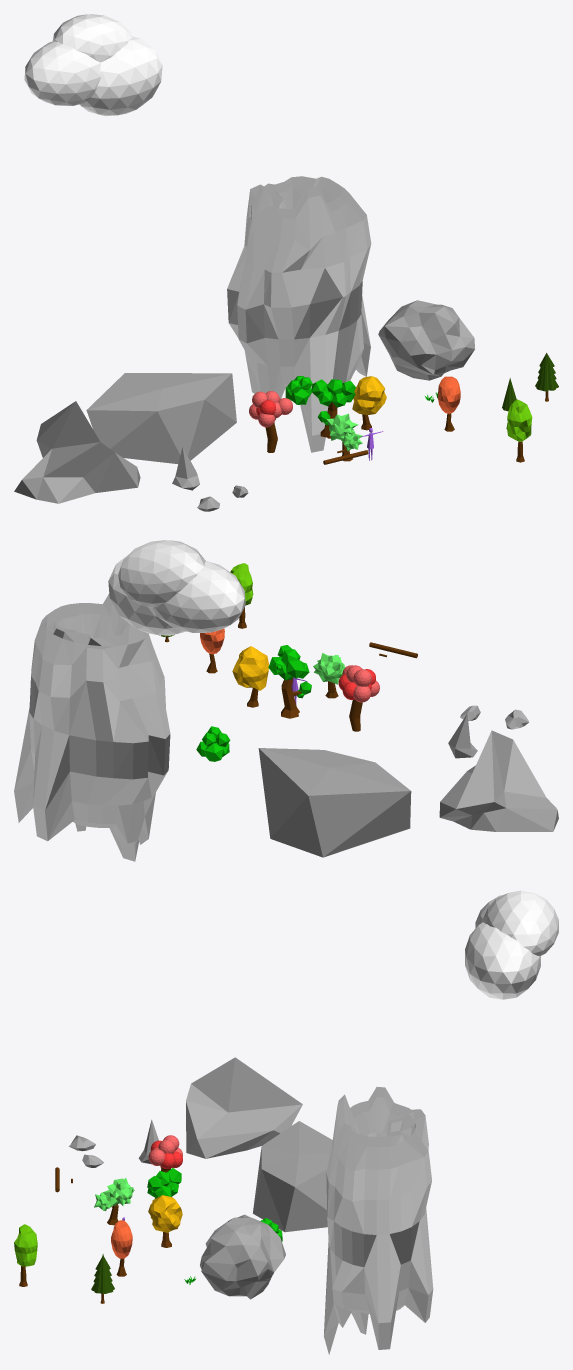
The model's file is Low poly pack_.dae.
3 views of the same model, one above another, from view 1: azimuth 30°, elevation 25°; view 2: azimuth 150°, elevation 25°; view 3: azimuth 270°, elevation 25° (orthographic). The views are drawn at different scales.
Parts seen in each view (by area): view 1: Component_30_1, Component_28_1, Component_24_1, Component_5_1, Component_31_1, Component_31_2, Component_31_3, Component_3_1, Component_25_1, Component_23_1, Component_27_1; view 2: Component_30_1, Component_28_1, Component_24_1, Component_31_2, Component_31_3, Component_31_1, Component_3_1, Component_27_1, Component_34_2, Component_1_1, Component_25_1, Component_23_1; view 3: Component_30_1, Component_24_1, Component_28_1, Component_5_1, Component_31_1, Component_31_3, Component_3_1, Component_25_1, Component_23_1, Component_34_2.
Part boxes in pixels (x1,y1,x2,y2): Component_30_1: [227, 176, 371, 452]; Component_28_1: [86, 373, 236, 463]; Component_24_1: [14, 401, 140, 503]; Component_5_1: [378, 300, 474, 380]; Component_31_1: [79, 36, 162, 116]; Component_31_2: [24, 41, 100, 105]; Component_31_3: [52, 14, 131, 62]; Component_3_1: [352, 376, 386, 414]; Component_25_1: [506, 399, 532, 441]; Component_23_1: [437, 376, 460, 413]; Component_27_1: [172, 447, 199, 490]; Component_30_1: [14, 593, 170, 861]; Component_28_1: [258, 748, 411, 857]; Component_24_1: [439, 730, 558, 831]; Component_31_2: [153, 561, 245, 632]; Component_31_3: [118, 540, 205, 607]; Component_31_1: [108, 554, 186, 635]; Component_3_1: [232, 646, 268, 690]; Component_27_1: [448, 713, 477, 758]; Component_34_2: [313, 653, 343, 684]; Component_1_1: [281, 677, 301, 718]; Component_25_1: [230, 563, 253, 605]; Component_23_1: [200, 628, 224, 654]; Component_30_1: [324, 1087, 433, 1354]; Component_24_1: [186, 1057, 302, 1158]; Component_28_1: [253, 1121, 332, 1232]; Component_5_1: [200, 1214, 285, 1299]; Component_31_1: [465, 922, 540, 999]; Component_31_3: [482, 890, 558, 956]; Component_3_1: [148, 1195, 182, 1232]; Component_25_1: [14, 1224, 37, 1266]; Component_23_1: [111, 1220, 132, 1258]; Component_34_2: [102, 1178, 134, 1205].
Size of the model in its own units: 379 by 302 by 379.
